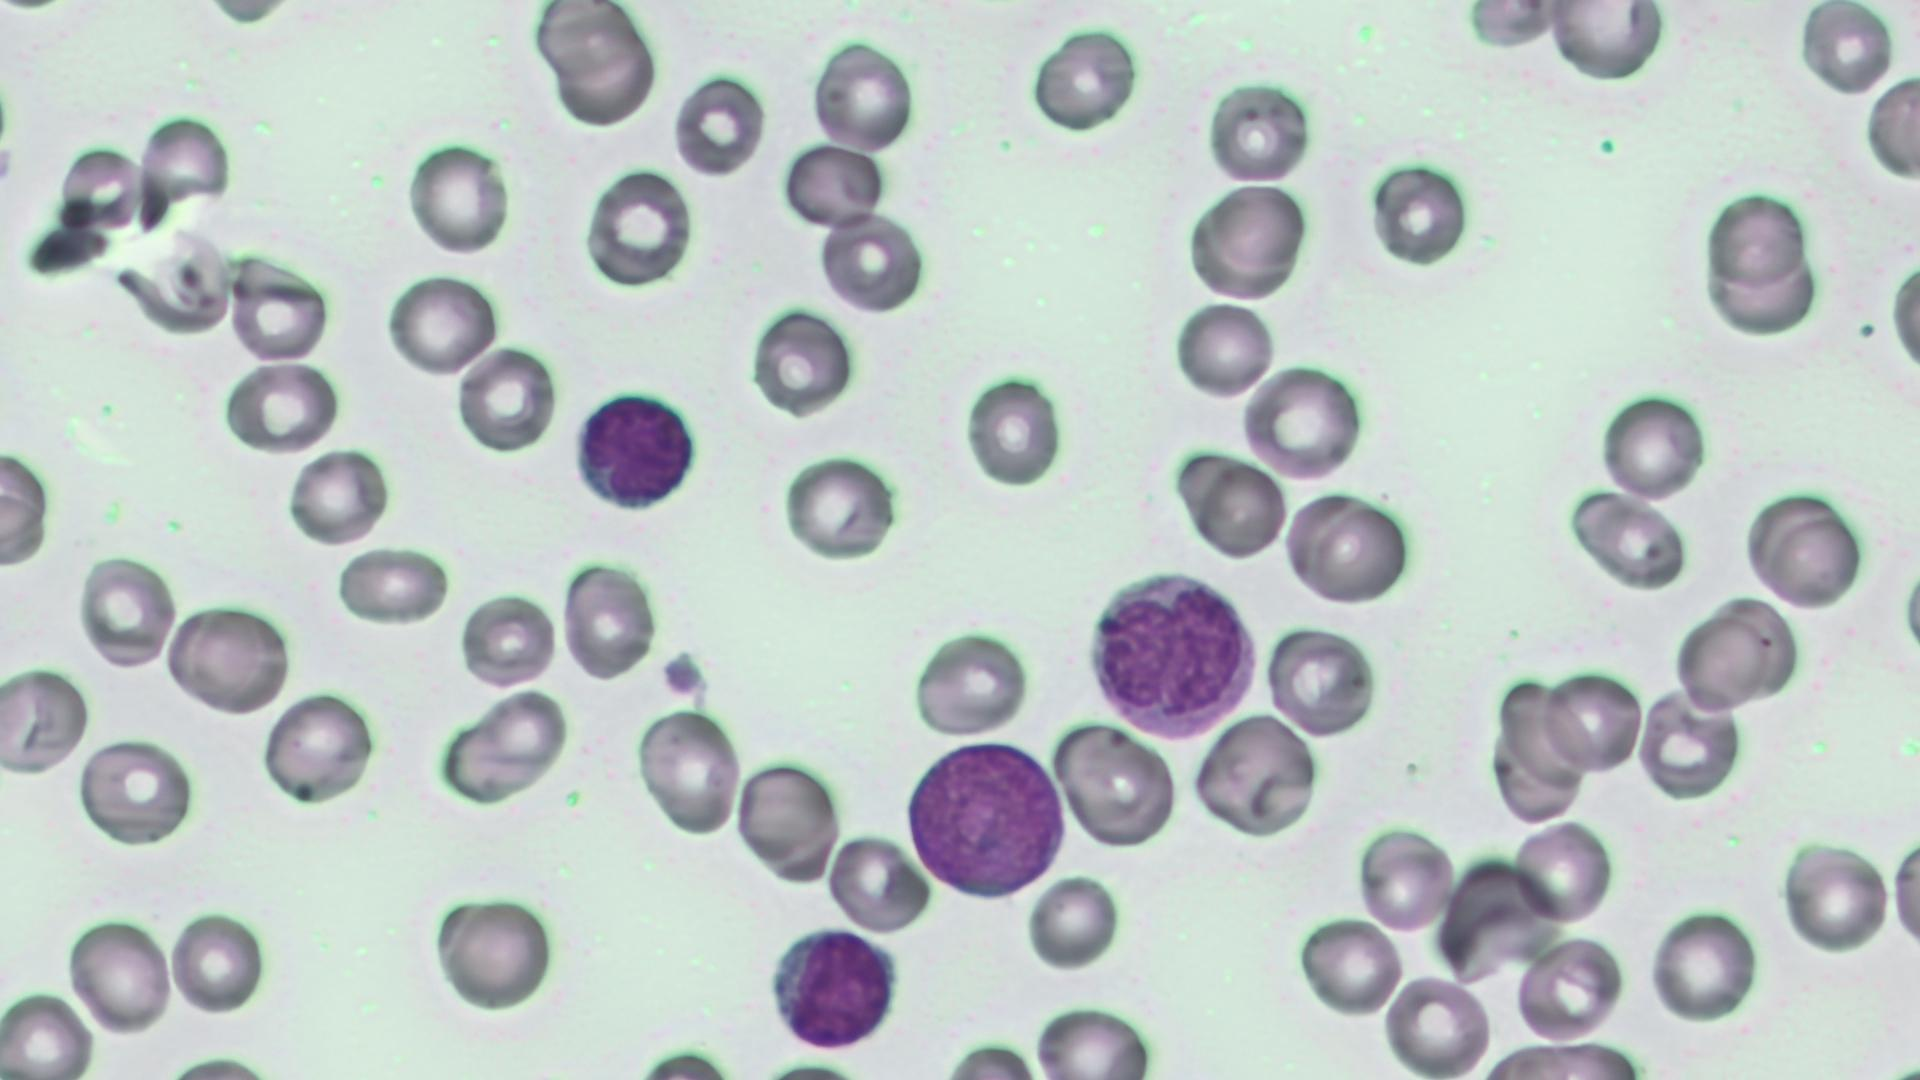Platelets: (0, 138, 21, 189)
RBC: (1192, 710, 1319, 839), (1285, 488, 1417, 607), (1054, 721, 1177, 848), (1186, 177, 1311, 301), (1241, 360, 1366, 484), (434, 890, 558, 1014), (635, 703, 745, 838), (164, 602, 291, 717), (778, 449, 902, 564), (583, 164, 694, 291), (1778, 834, 1894, 954), (72, 735, 194, 848), (64, 913, 175, 1037), (1749, 496, 1866, 613), (735, 757, 840, 886), (961, 365, 1067, 492), (454, 689, 573, 802), (744, 302, 857, 420), (1648, 904, 1760, 1023), (1203, 73, 1317, 189), (382, 267, 501, 378), (1267, 622, 1378, 739), (1598, 386, 1708, 504), (809, 35, 916, 154), (261, 691, 374, 803), (1512, 933, 1626, 1044), (558, 555, 659, 680), (405, 136, 508, 258), (1028, 23, 1139, 135), (814, 208, 928, 316), (74, 550, 176, 670), (1635, 688, 1743, 800), (1382, 970, 1494, 1078), (549, 23, 661, 130), (135, 108, 234, 228), (1294, 913, 1406, 1019), (1540, 664, 1646, 775), (453, 344, 556, 458), (1355, 819, 1457, 934), (1704, 185, 1812, 293), (224, 255, 331, 363), (672, 64, 769, 183), (166, 906, 269, 1018), (1514, 818, 1616, 930), (220, 358, 338, 453), (828, 829, 933, 934), (1672, 607, 1778, 711), (1170, 298, 1275, 402), (1794, 0, 1899, 100), (455, 589, 559, 689), (285, 446, 390, 545), (333, 542, 455, 627), (1, 663, 90, 779), (1545, 0, 1665, 85), (1030, 998, 1157, 1078), (1028, 872, 1125, 974), (1193, 457, 1286, 561), (780, 140, 886, 230), (56, 139, 147, 237), (0, 986, 93, 1075), (1860, 65, 1920, 200), (0, 444, 53, 569), (1884, 243, 1920, 388), (1462, 1, 1562, 50), (1886, 817, 1918, 961)
WBC: (1082, 564, 1265, 741), (902, 733, 1070, 901), (763, 921, 905, 1053), (568, 386, 705, 515)
